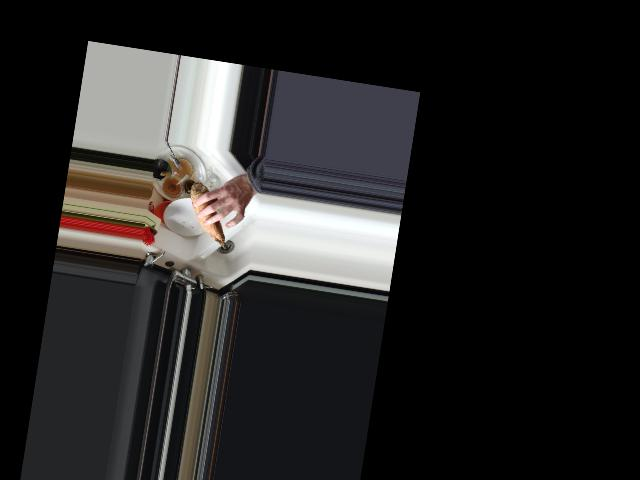sweet_potato: (182, 181, 235, 249)
